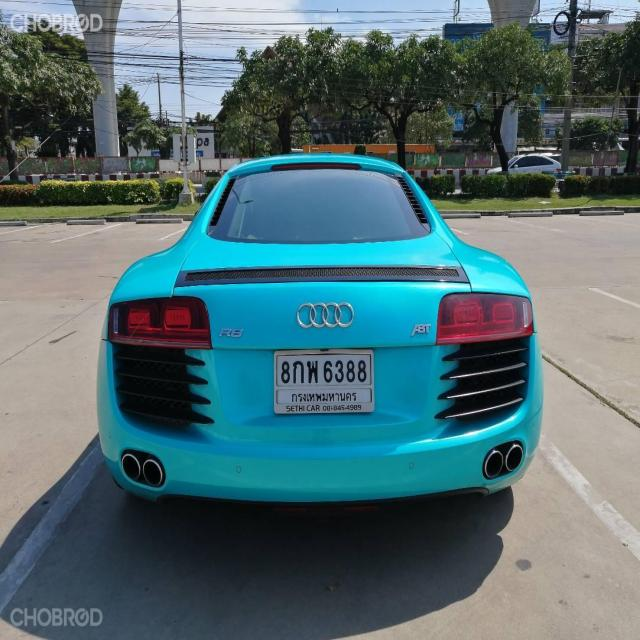license_plate: (272, 344, 376, 418)
